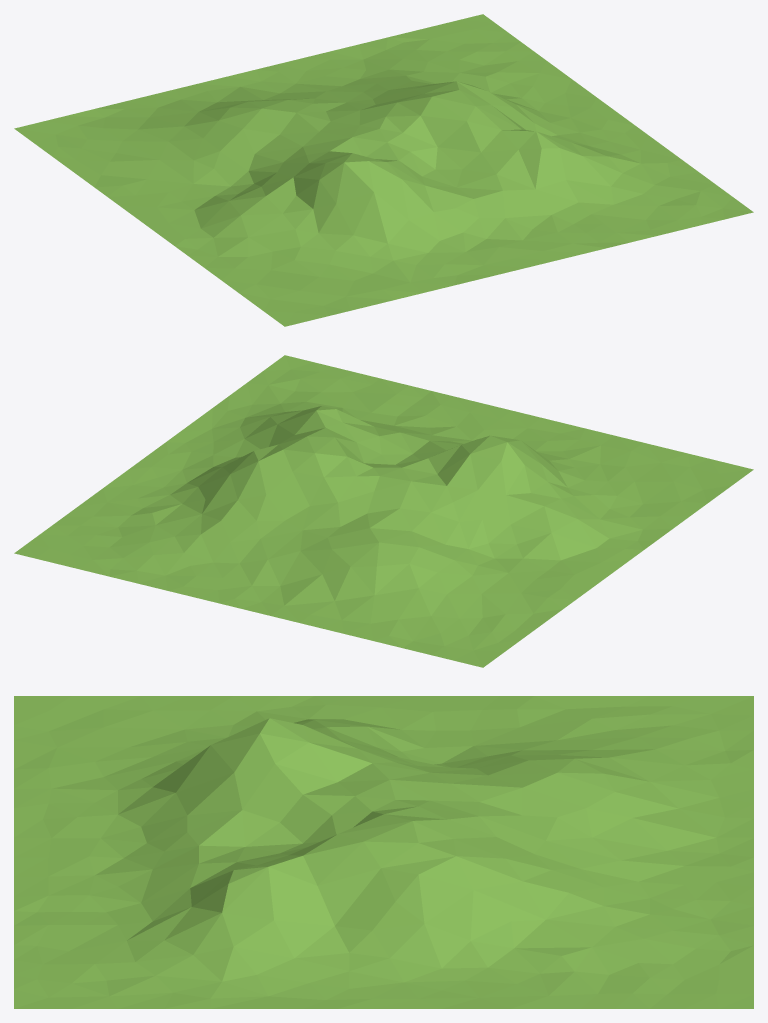
File: MT_Terrain_M_a_12_LOD.fbx
3 views of the same model, one above another, from view 1: azimuth 30°, elevation 25°; view 2: azimuth 150°, elevation 25°; view 3: azimuth 270°, elevation 25° (orthographic). The views are drawn at different scales.
Parts seen in each view (by area): view 1: MT_Terrain_M_a_12_LOD0; view 2: MT_Terrain_M_a_12_LOD0; view 3: MT_Terrain_M_a_12_LOD0.
Part boxes in pixels (bbox=[...]): MT_Terrain_M_a_12_LOD0: bbox=[14, 14, 753, 326]; MT_Terrain_M_a_12_LOD0: bbox=[14, 355, 753, 667]; MT_Terrain_M_a_12_LOD0: bbox=[14, 696, 753, 1008].
Size of what is drawn, in the model's own units: 5000 by 605 by 5000.
